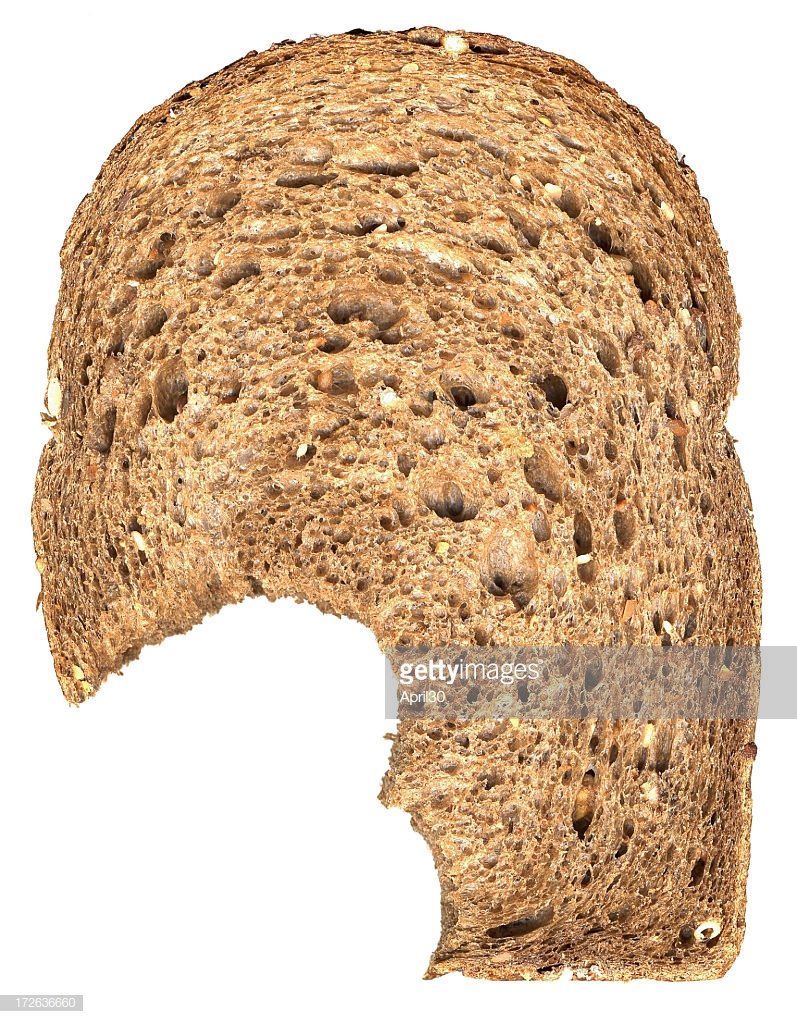slice of bread: (208, 76, 758, 520)
